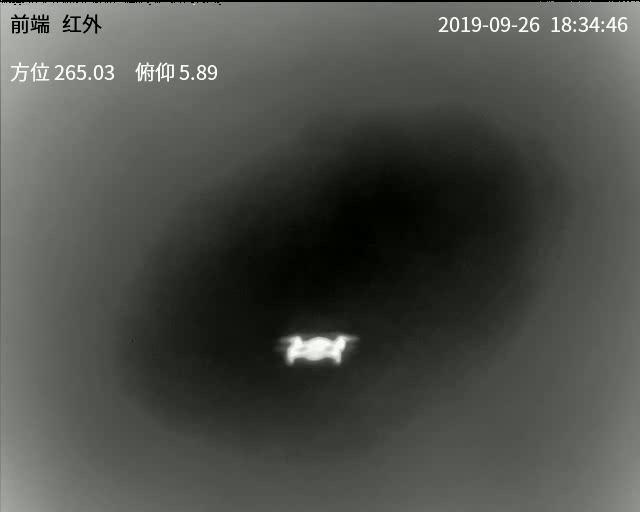DRONE: (277, 334, 356, 365)
